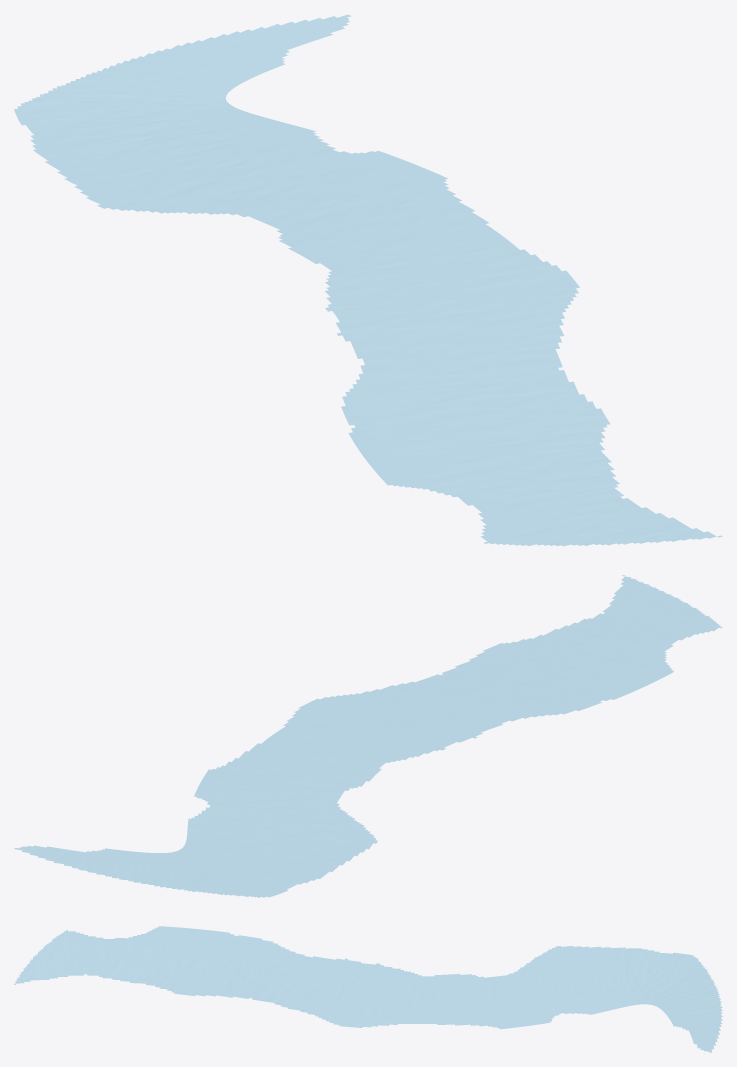
File: river_water_surface_a.glb
3 renders of one model, top to bottom at view 1: azimuth 30°, elevation 25°; view 2: azimuth 150°, elevation 25°; view 3: azimuth 270°, elevation 25°, orthographic. The views are drawn at different scales.
Parts seen in each view (by area): view 1: river_water_surface; view 2: river_water_surface; view 3: river_water_surface.
Part boxes in pixels (<box>): river_water_surface: <box>14,14,722,546</box>; river_water_surface: <box>14,575,722,897</box>; river_water_surface: <box>14,926,722,1052</box>.
Bounding box in the file's own units: 14.76 × 0.2145 × 35.54.
1 material, 1 textured.
